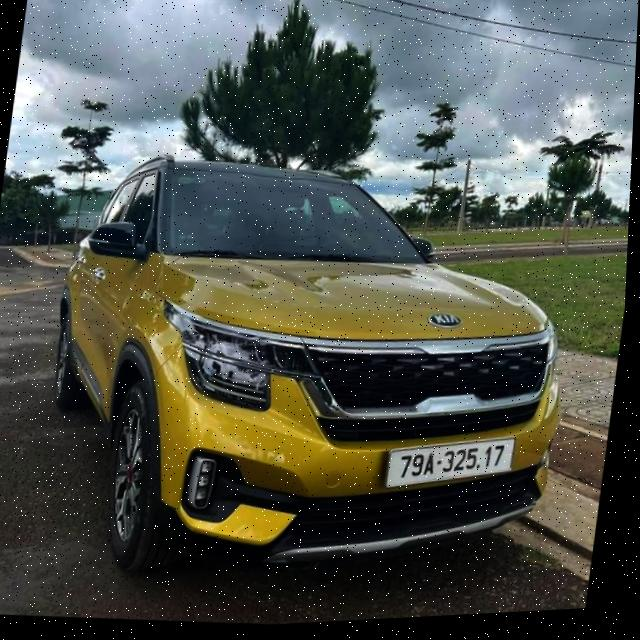car: (12, 124, 592, 613)
plate: (378, 427, 521, 501)
